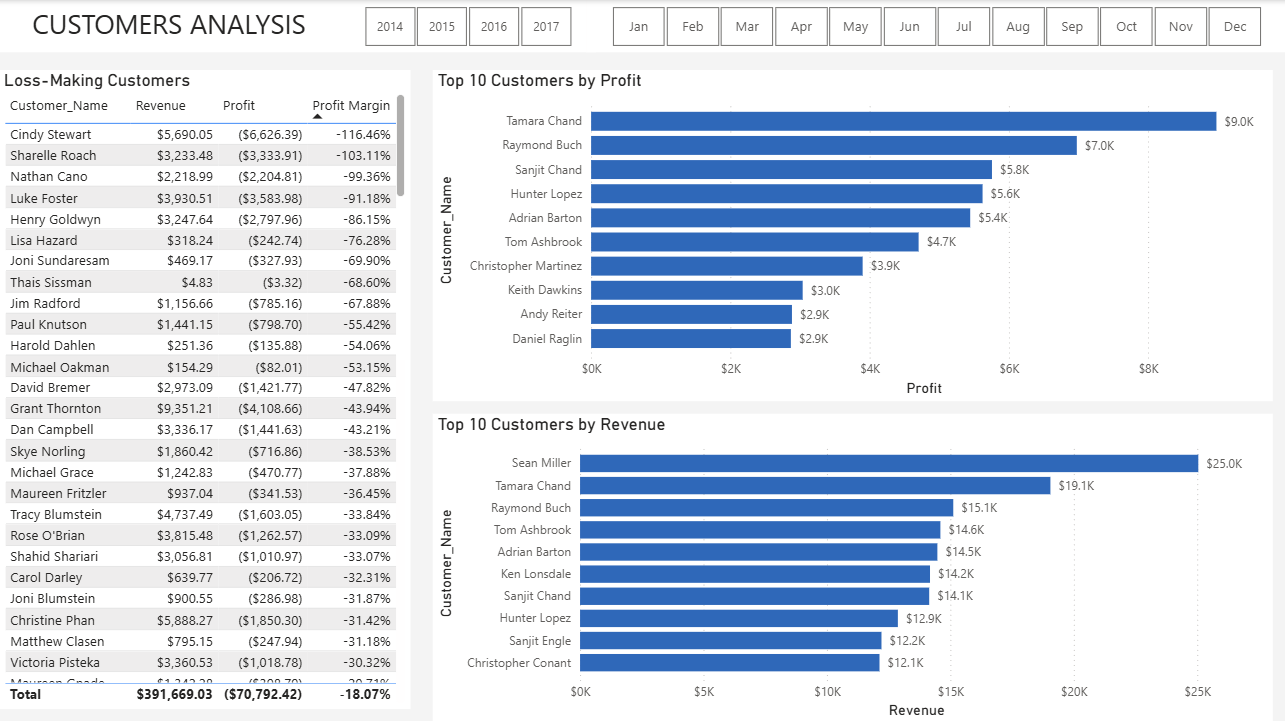

The page's visual inventory and layout, read from the dashboard file:
{"tool":"powerbi","page":{"name":"CUSTUMERS ANALYSIS","canvas":[1280,720],"ordinal":2},"visuals":[{"type":"textbox","box":[0,0,338.4,52.2],"z":0},{"type":"slicer","fields":{"Values":["Date.Date Hierarchy.Year"]},"box":[338.4,0,255,52.2],"z":1000},{"type":"slicer","fields":{"Values":["Date.MonthName"]},"box":[584.6,0,695.4,52.2],"z":2000},{"type":"clusteredBarChart","title":"Top 10 Customers by Revenue","fields":{"Category":["vw_CleanSuperstoreBI.Customer_Name"],"Y":["Measures (2).Revenue"]},"box":[431.7,411.8,835.9,308.5],"z":3000},{"type":"clusteredBarChart","title":"Top 10 Customers by Profit","fields":{"Category":["vw_CleanSuperstoreBI.Customer_Name"],"Y":["Measures (2).Profit"]},"box":[431.7,69.7,835.9,329.6],"z":4000},{"type":"tableEx","title":"Loss-Making Customers","fields":{"Values":["vw_CleanSuperstoreBI.Customer_Name","Measures (2).Revenue","Measures (2).Profit","Measures (2).Profit Margin"]},"box":[0,69.7,409.3,635.7],"z":5000}]}

Visuals, with their boxes in screenshot pixels (x1, y1, x2, y2), scaled from the page's 1280x720 canvas onto the 1285x721 screenshot:
textbox: [x1=0, y1=0, x2=340, y2=52]
slicer - Date.Date Hierarchy.Year: [x1=340, y1=0, x2=596, y2=52]
slicer - Date.MonthName: [x1=587, y1=0, x2=1284, y2=52]
"Top 10 Customers by Revenue" clusteredBarChart: [x1=433, y1=412, x2=1273, y2=720]
"Top 10 Customers by Profit" clusteredBarChart: [x1=433, y1=70, x2=1273, y2=400]
"Loss-Making Customers" tableEx: [x1=0, y1=70, x2=411, y2=706]
